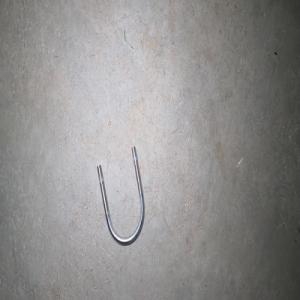ClampPart: (96, 145, 145, 246)
